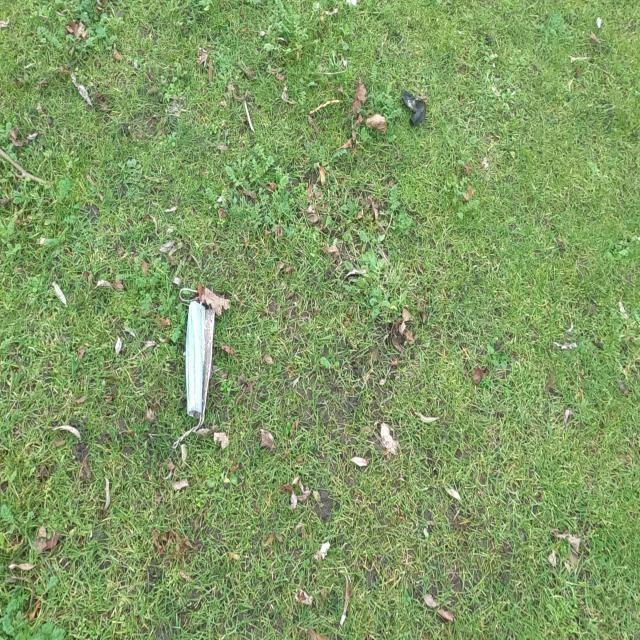Mask: (174, 286, 220, 432)
